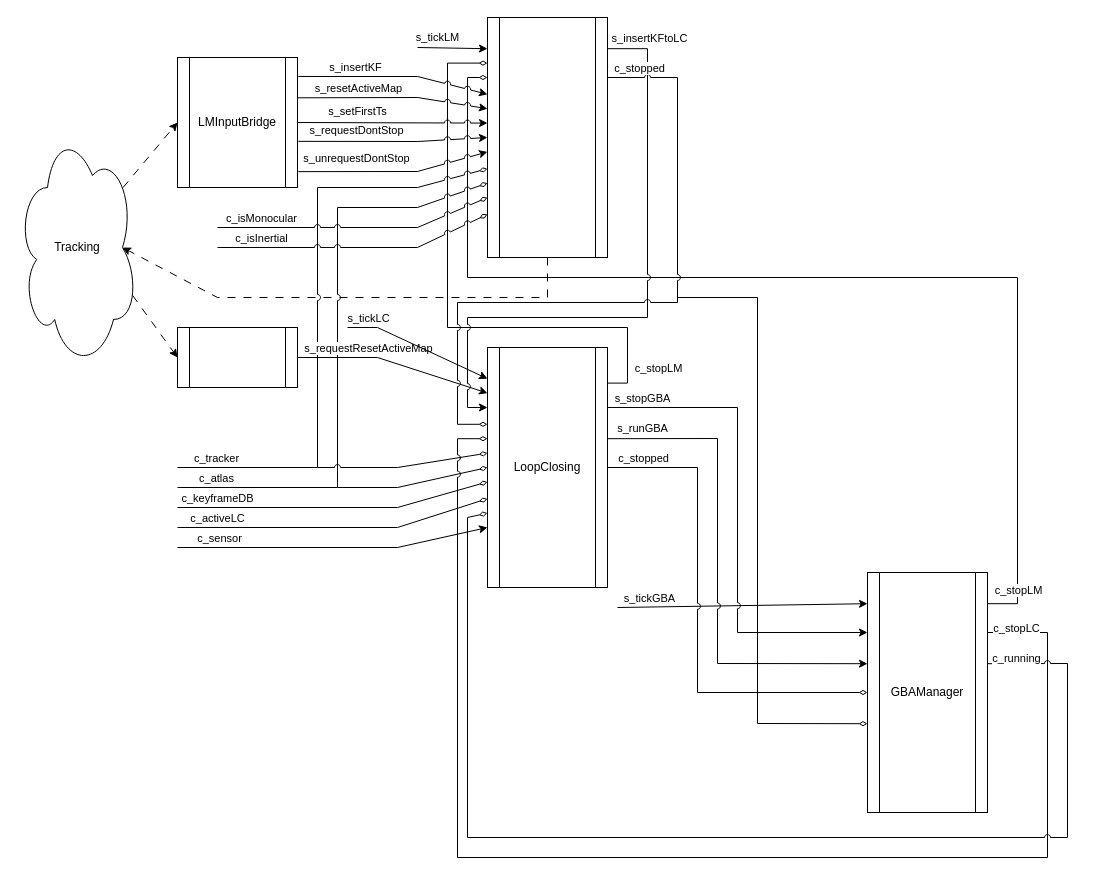
The diagram is 1093 pixels wide and 883 high, and some of its shapes have lost their labels. Each missing label, with the box of its shape:
LCInputBridge: (176, 326, 298, 388)
LocalMapping: (486, 16, 608, 258)
